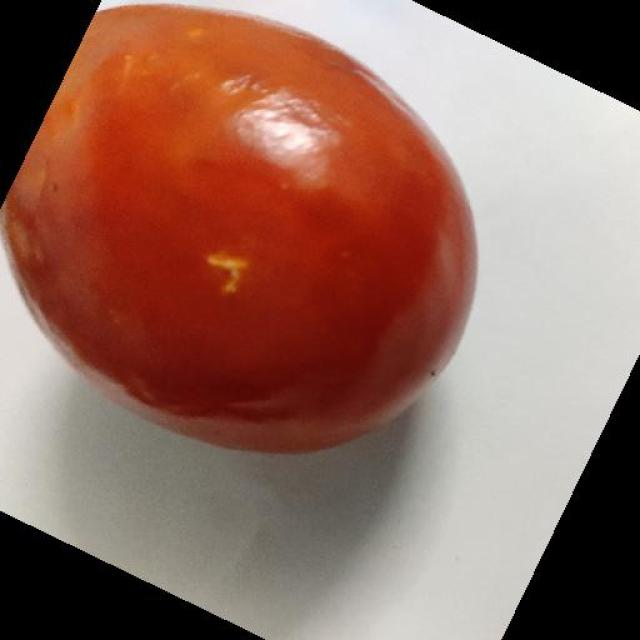Stale_tomato: (21, 15, 491, 421)
